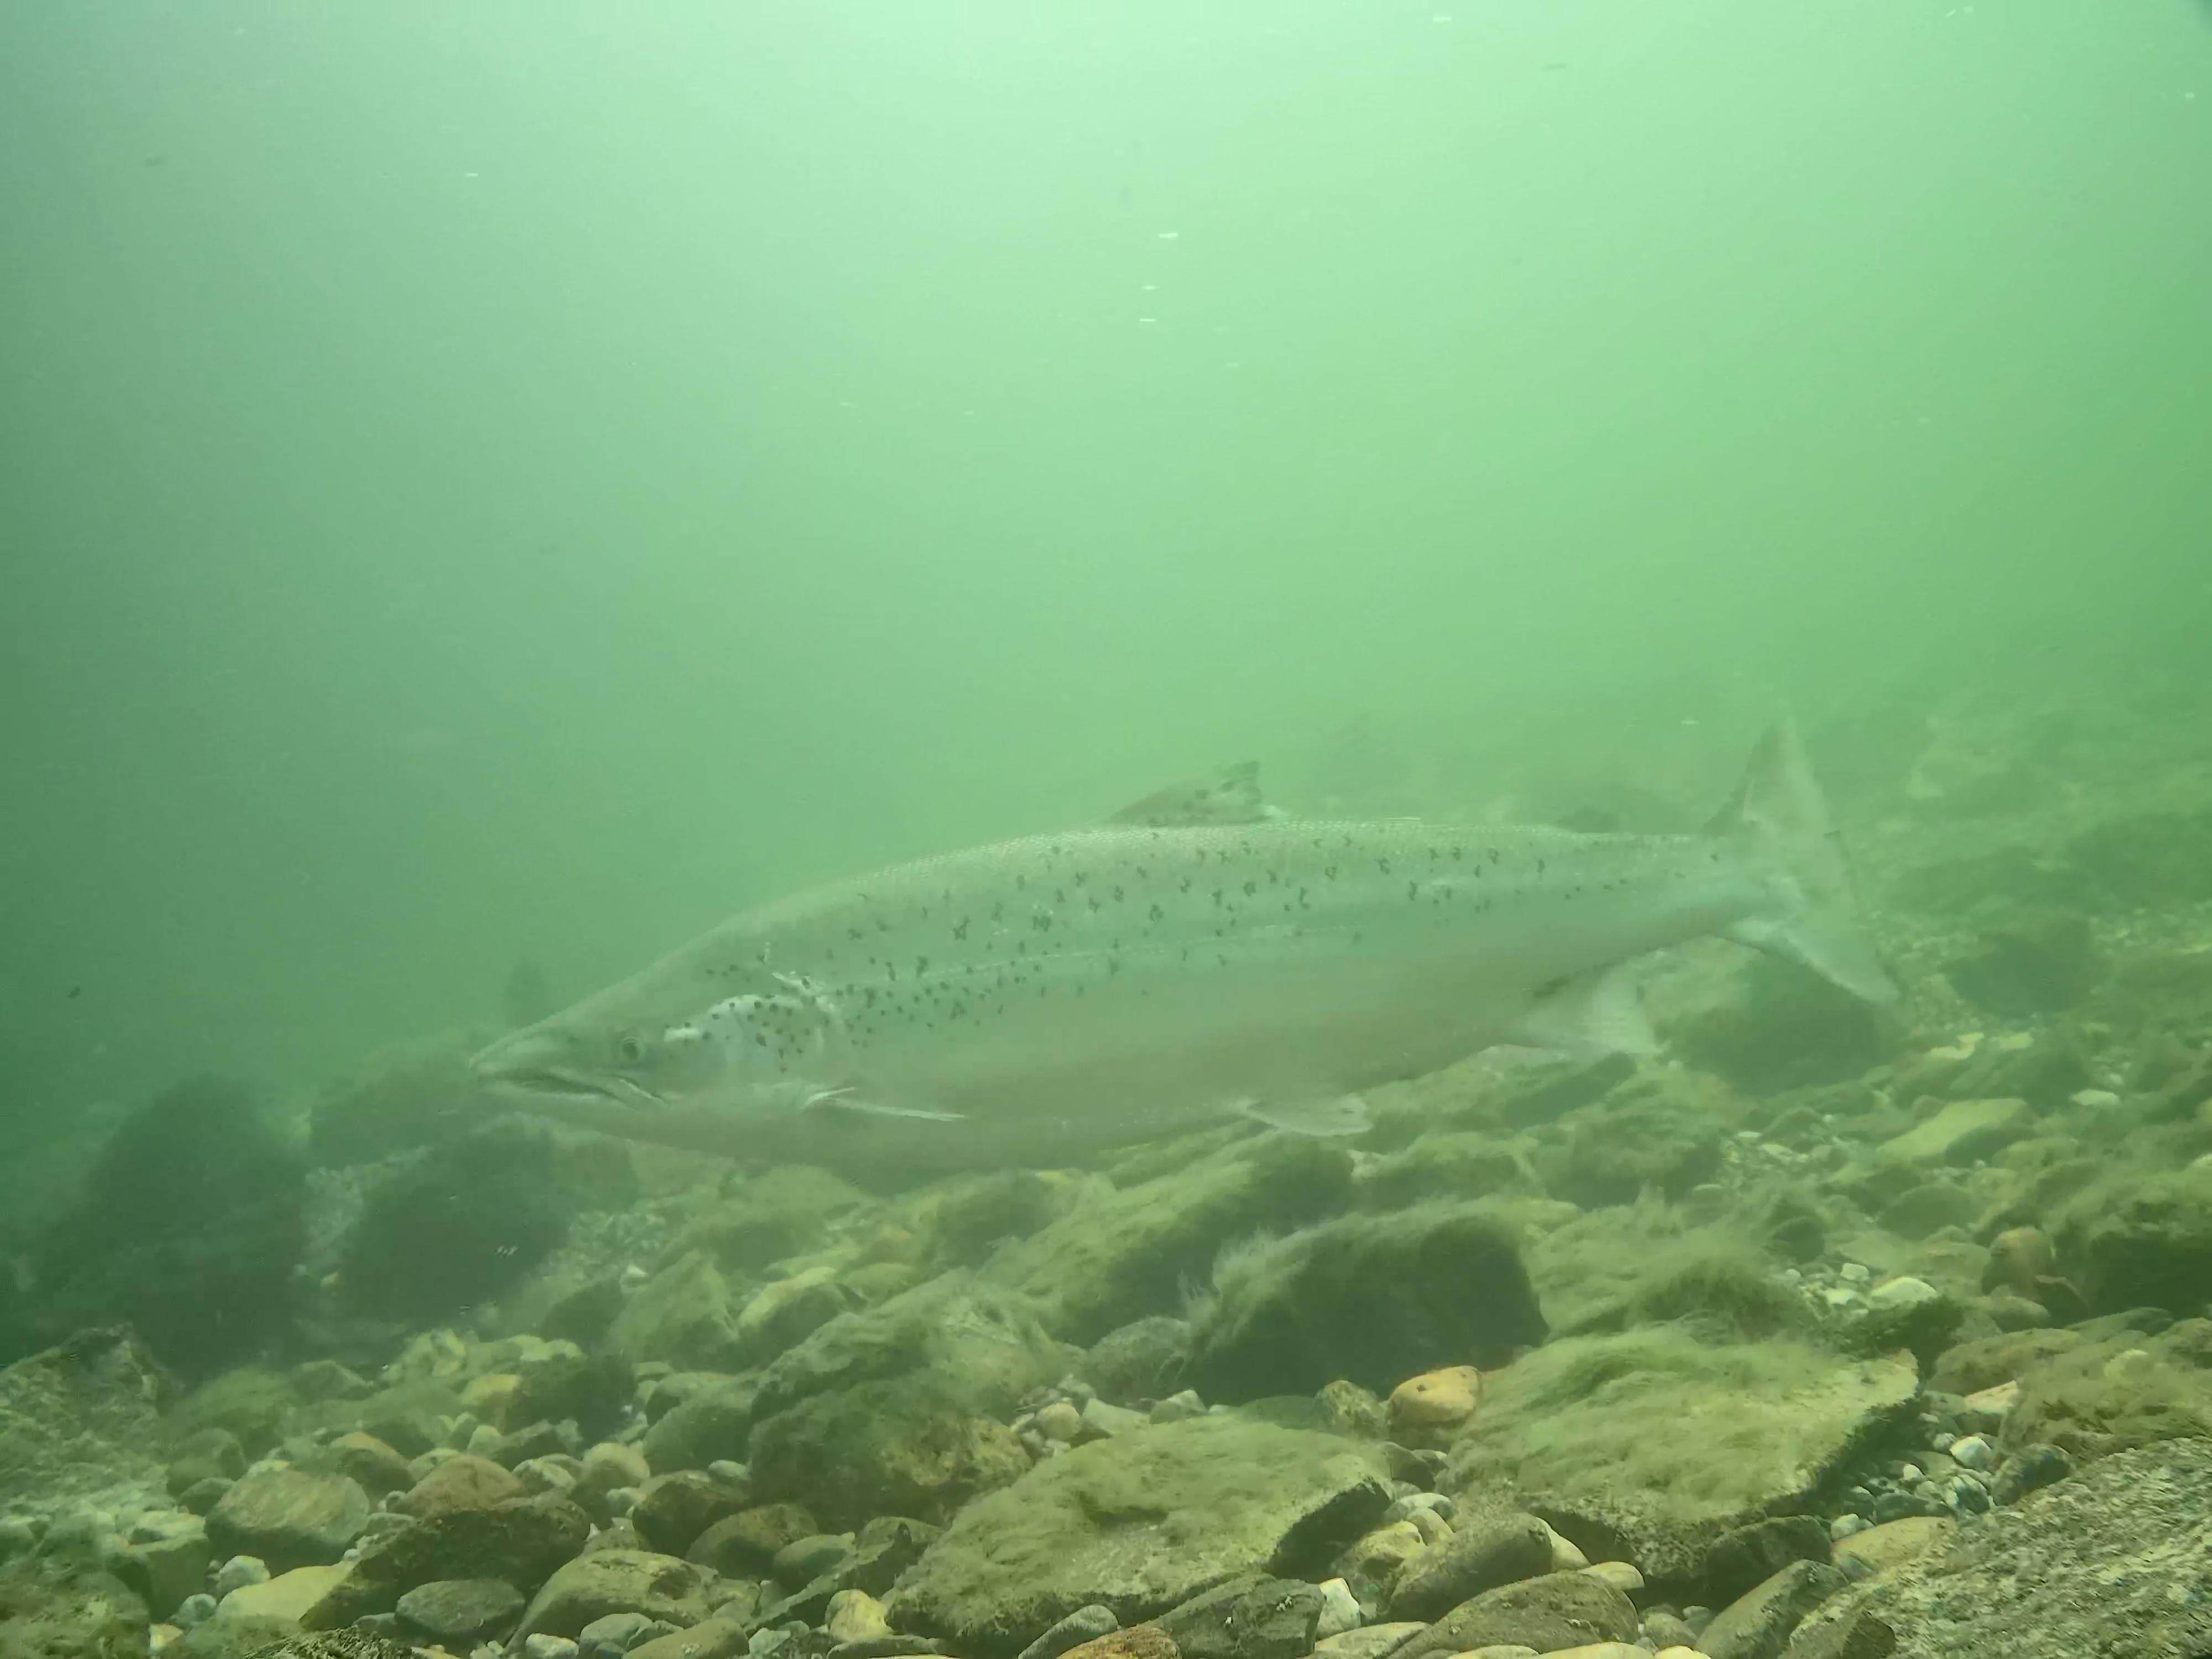salmon: (463, 697, 1909, 1180)
